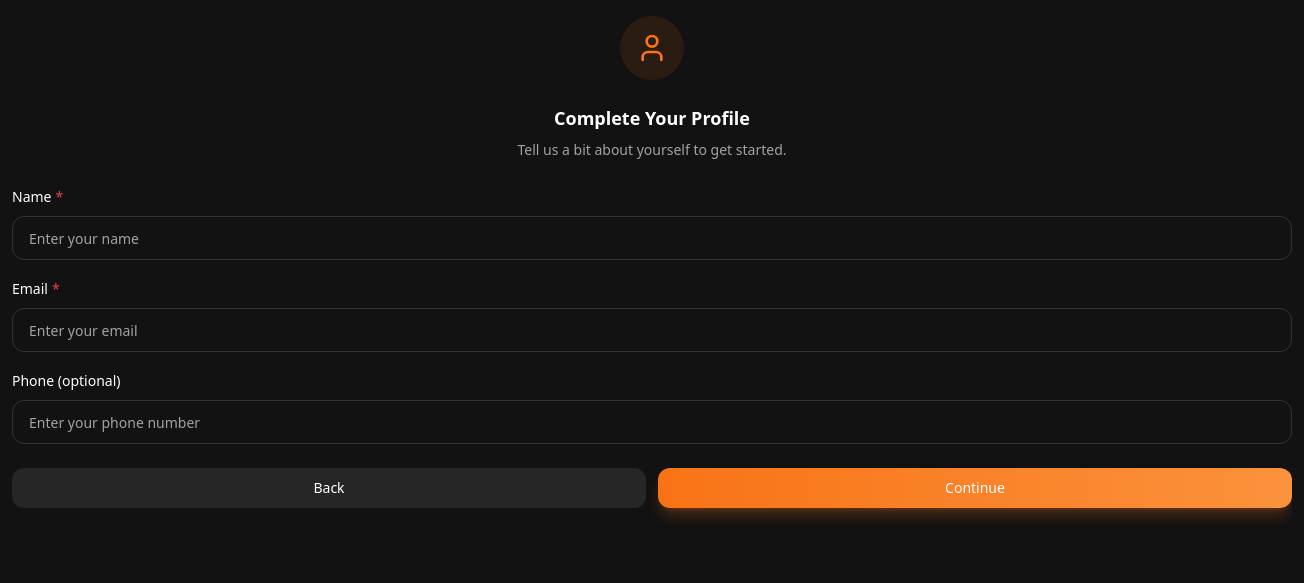
it: rejects an email without a domain suffix and an invalid phone number
The image size is (1304, 583).
Type "Alice" into the field labelled "Name*".
click(652, 238); type("Alice")  # box [12,216,1292,260]
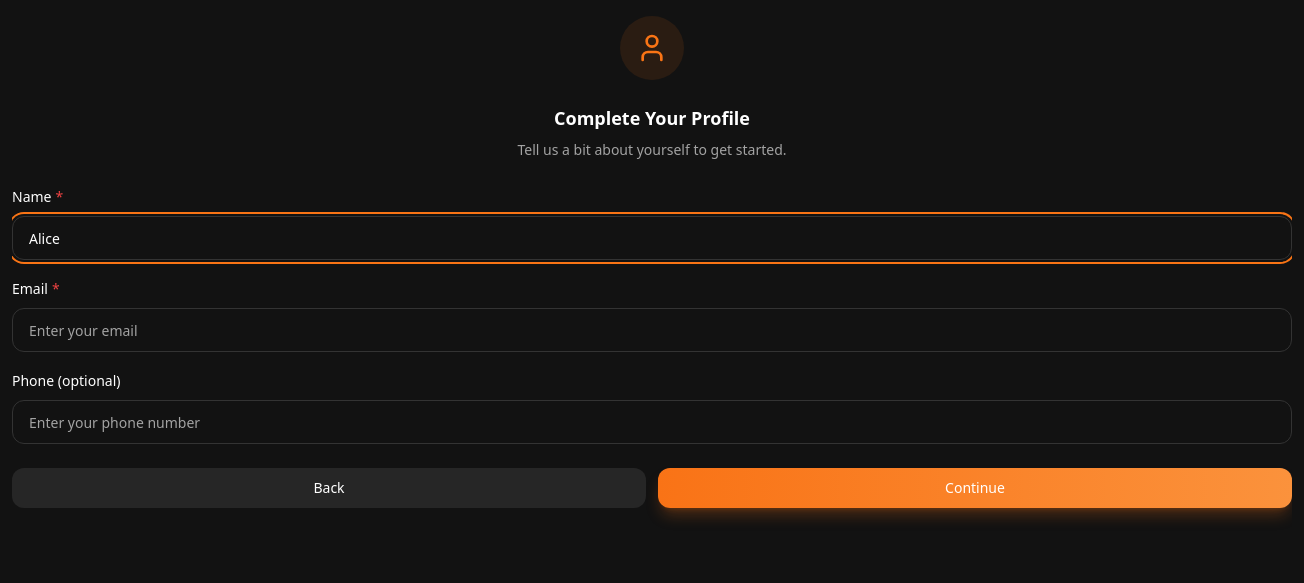
Type "alice@example" into the field labelled "Email*".
click(652, 330); type("alice@example")  # box [12,308,1292,352]
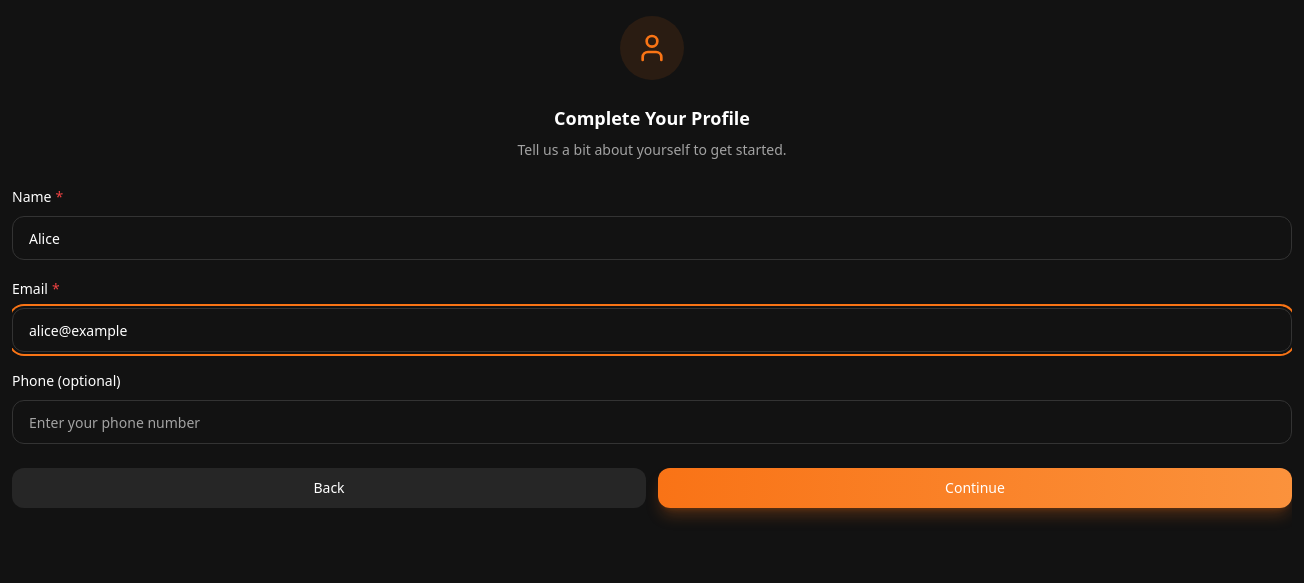
Type "call me" into the field labelled "Phone (optional)".
click(652, 422); type("call me")  # box [12,400,1292,444]
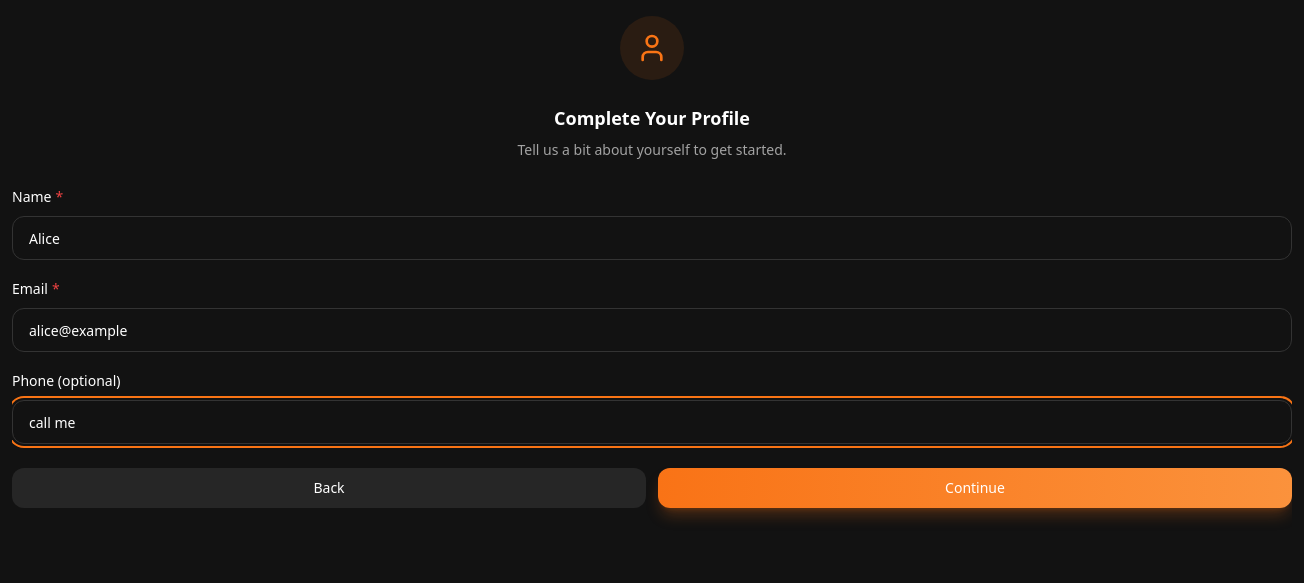
Click the button "Continue".
click(975, 488)  # box [658,468,1292,508]
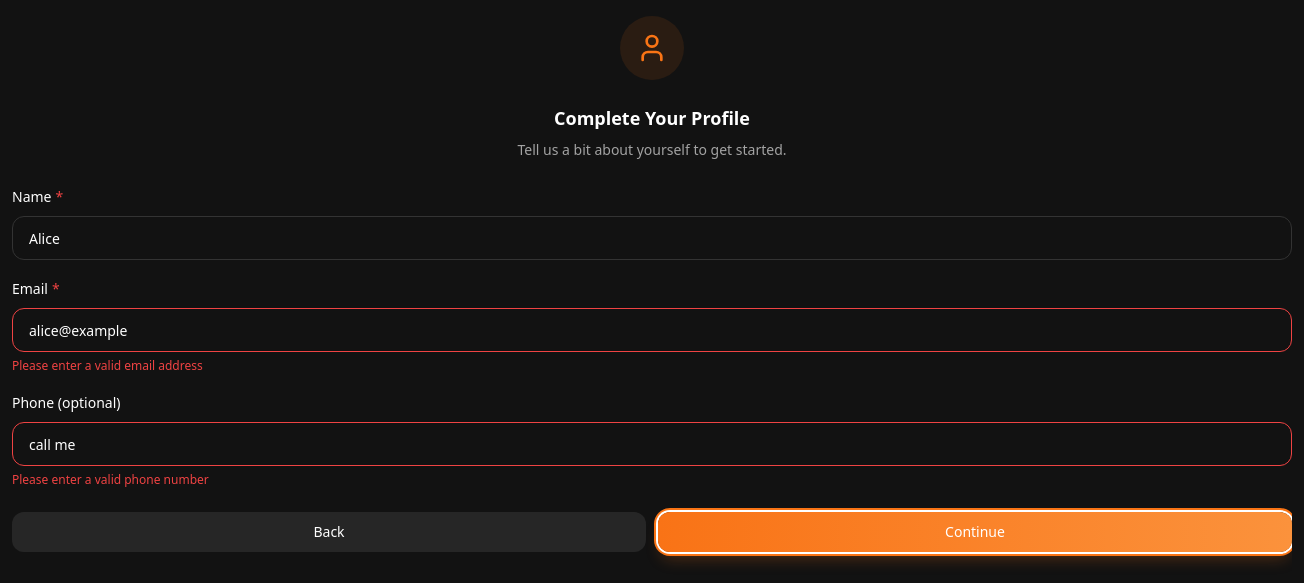
Result: the text "Please enter a valid email address" is shown at [12,357,203,374]
Result: the text "Please enter a valid phone number" is shown at [12,471,209,488]
